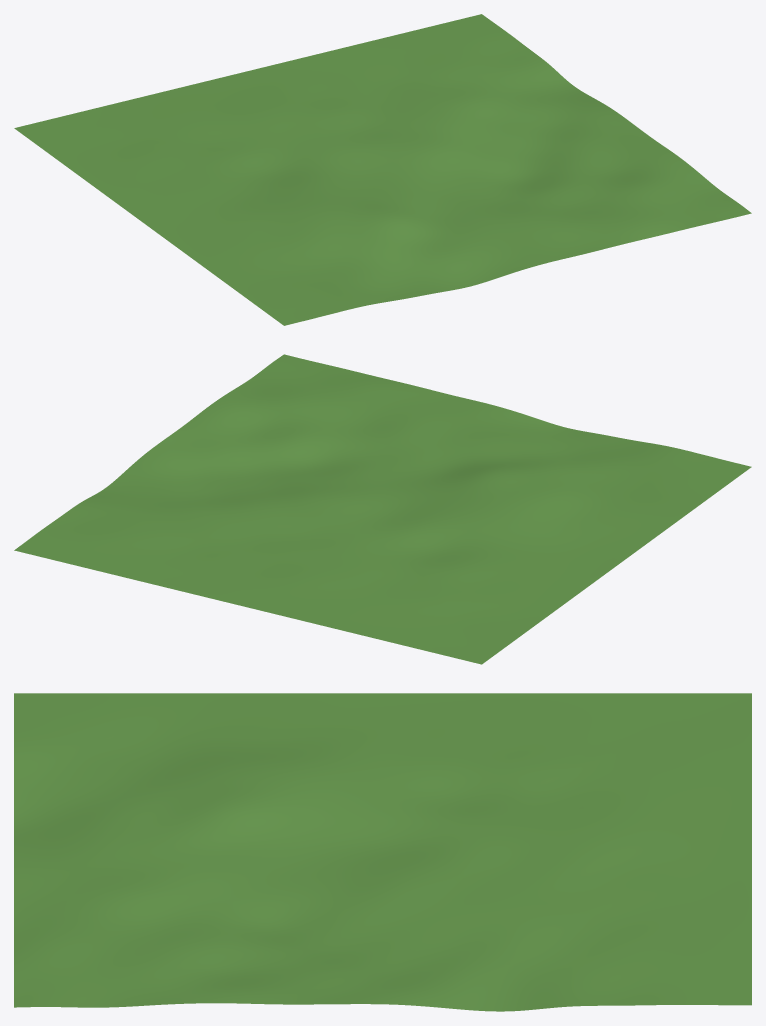
Rendered from SM_Terrain_00_00.fbx.
The picture shows the model from 3 angles, top to bottom: view 1: azimuth 30°, elevation 25°; view 2: azimuth 150°, elevation 25°; view 3: azimuth 270°, elevation 25°; orthographic projection. The views are drawn at different scales.
Parts seen in each view (by area): view 1: SM_Terrain_00_00; view 2: SM_Terrain_00_00; view 3: SM_Terrain_00_00.
Part boxes in pixels (x1,y1,x2,y2): SM_Terrain_00_00: [14, 14, 751, 325]; SM_Terrain_00_00: [14, 354, 751, 664]; SM_Terrain_00_00: [14, 693, 751, 1011].
Bounding box in the file's own units: 384 × 9.97 × 384.
